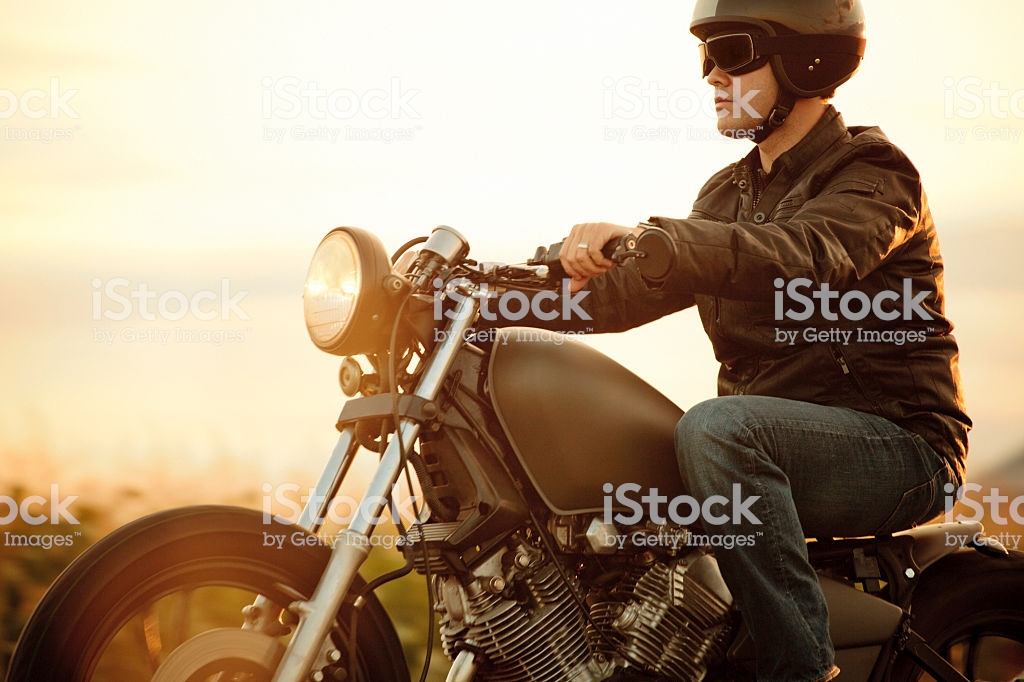helmet: (694, 2, 879, 76)
